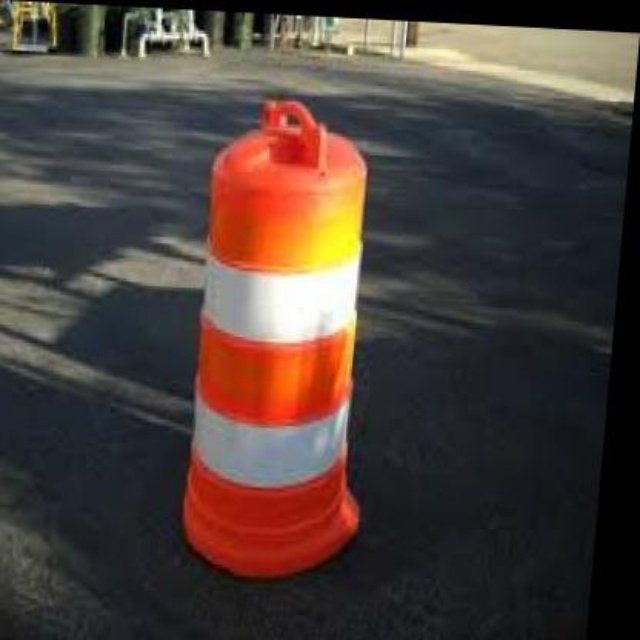obstacle: (177, 98, 389, 593)
